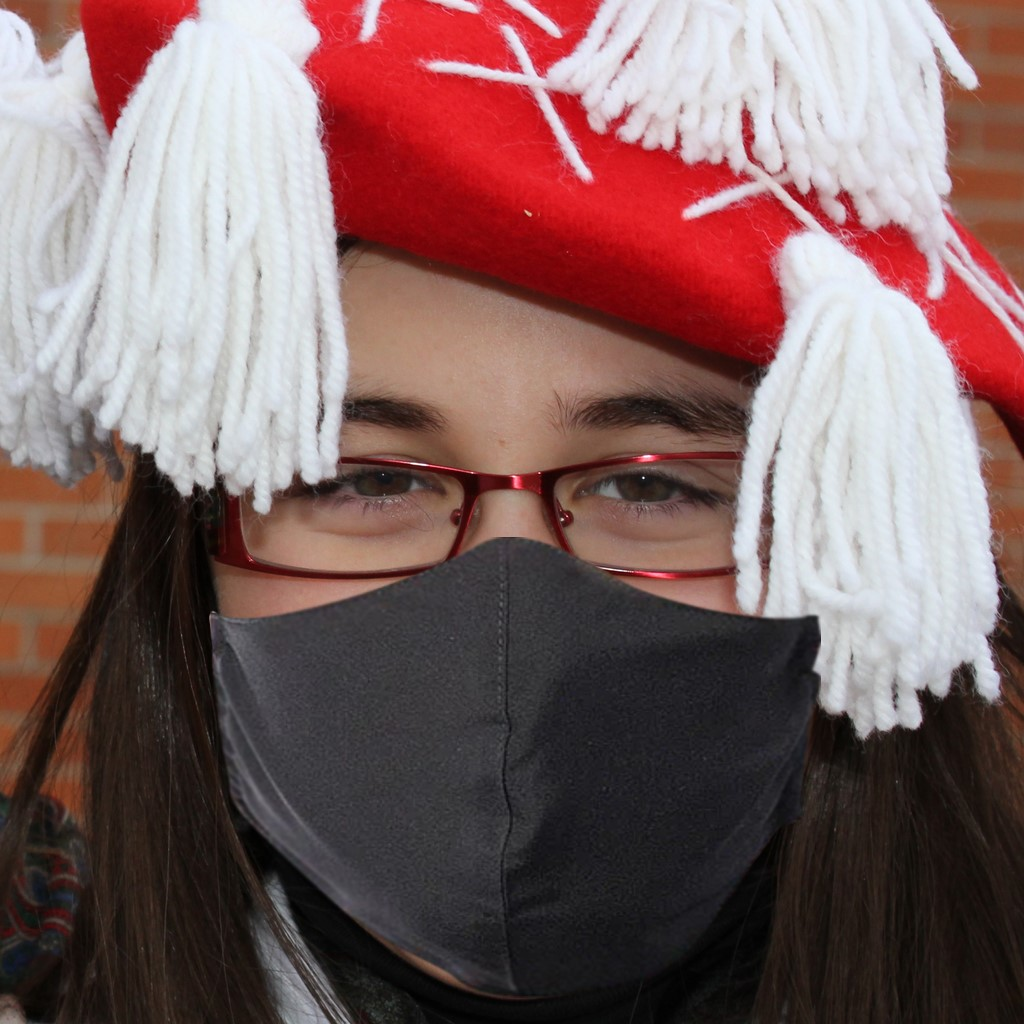con_mascara: (199, 205, 839, 985)
